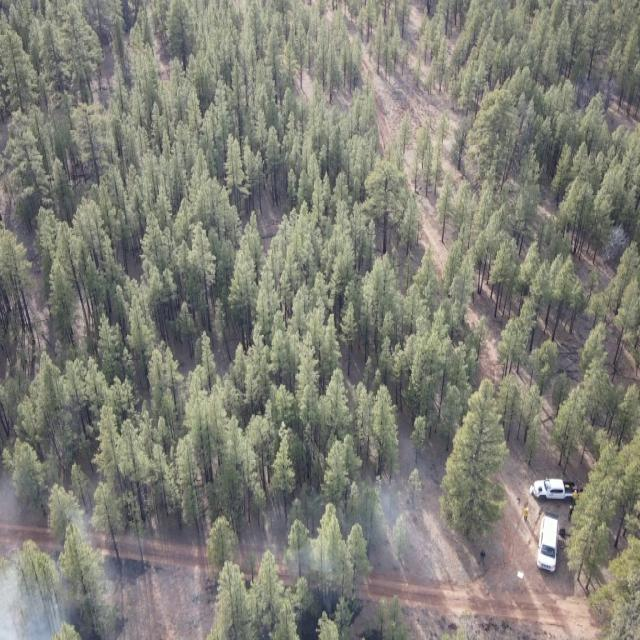smoke: (260, 454, 431, 584), (0, 462, 106, 640)
